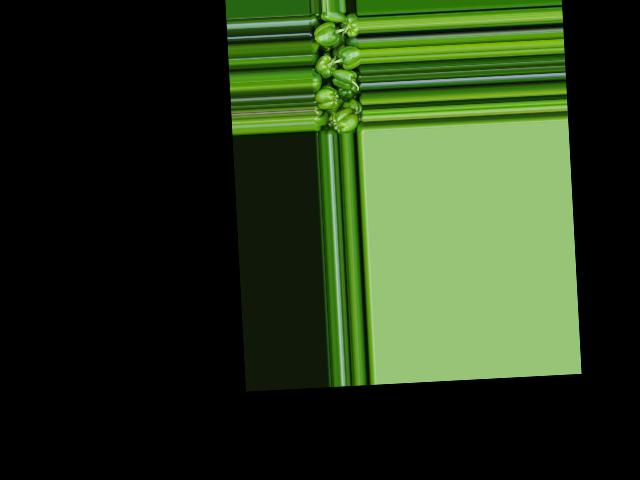bell_pepper: (308, 11, 362, 135)
